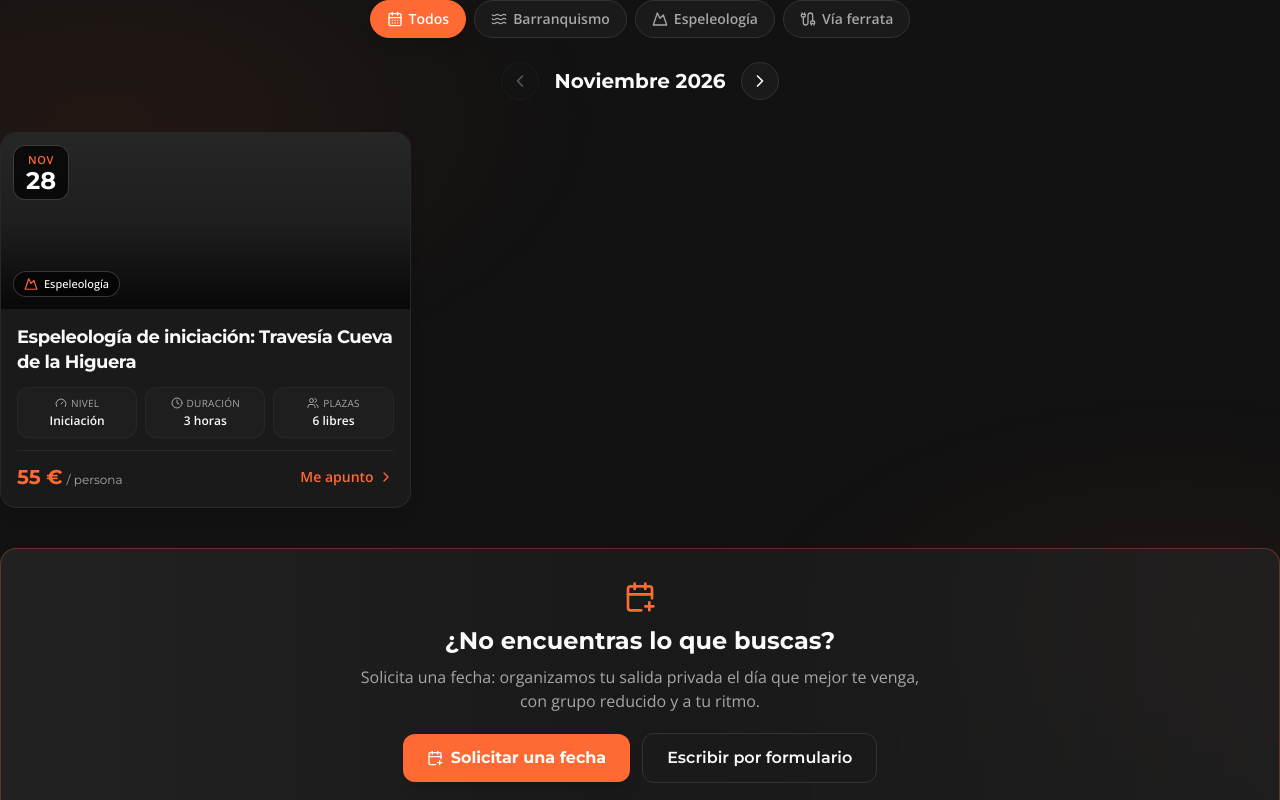
Test: permite desplegar el punto de encuentro y abrir los dos mapas
Step 1. Click the button named "Me apunto a Espeleología de iniciación: Travesía Cueva de la Higuera" → coordinates (205, 320), box [1,133,410,506]
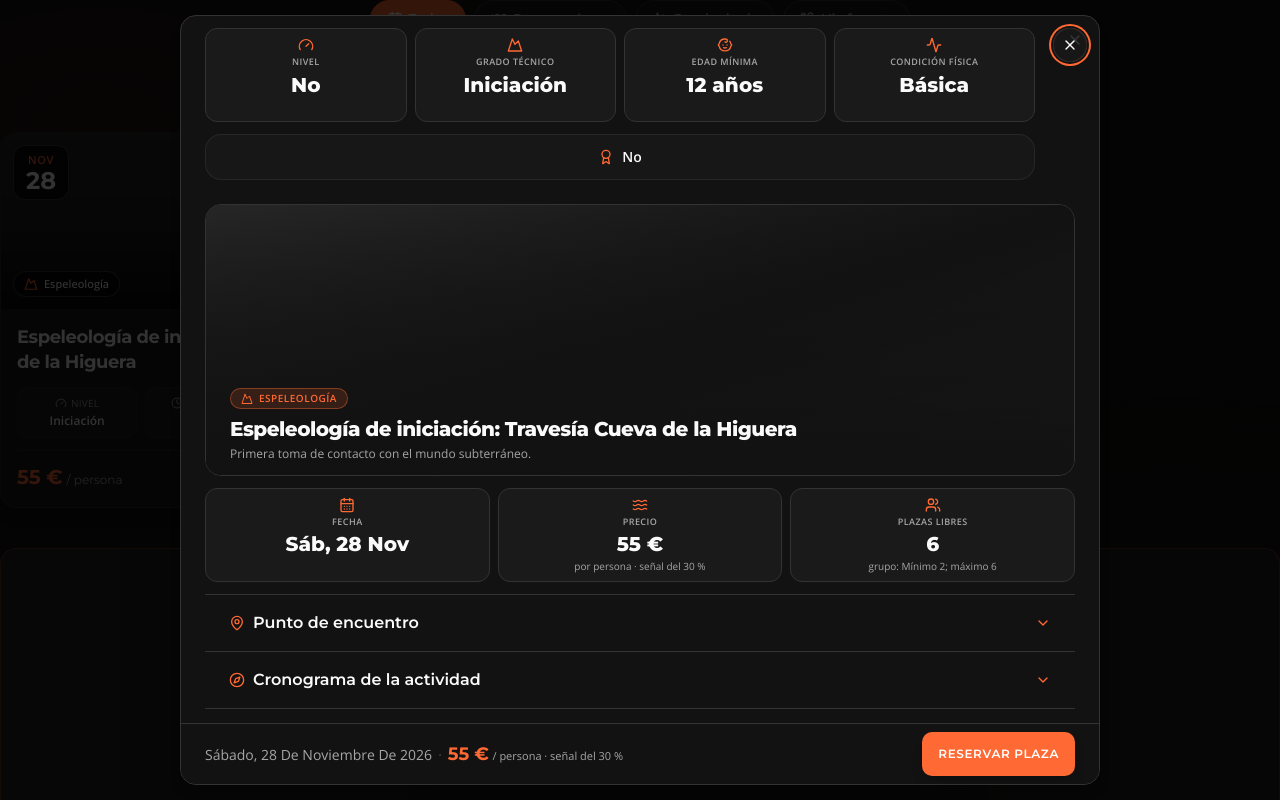
Step 2. Click the button "Punto de encuentro" → coordinates (336, 622), box [205,594,1075,650]
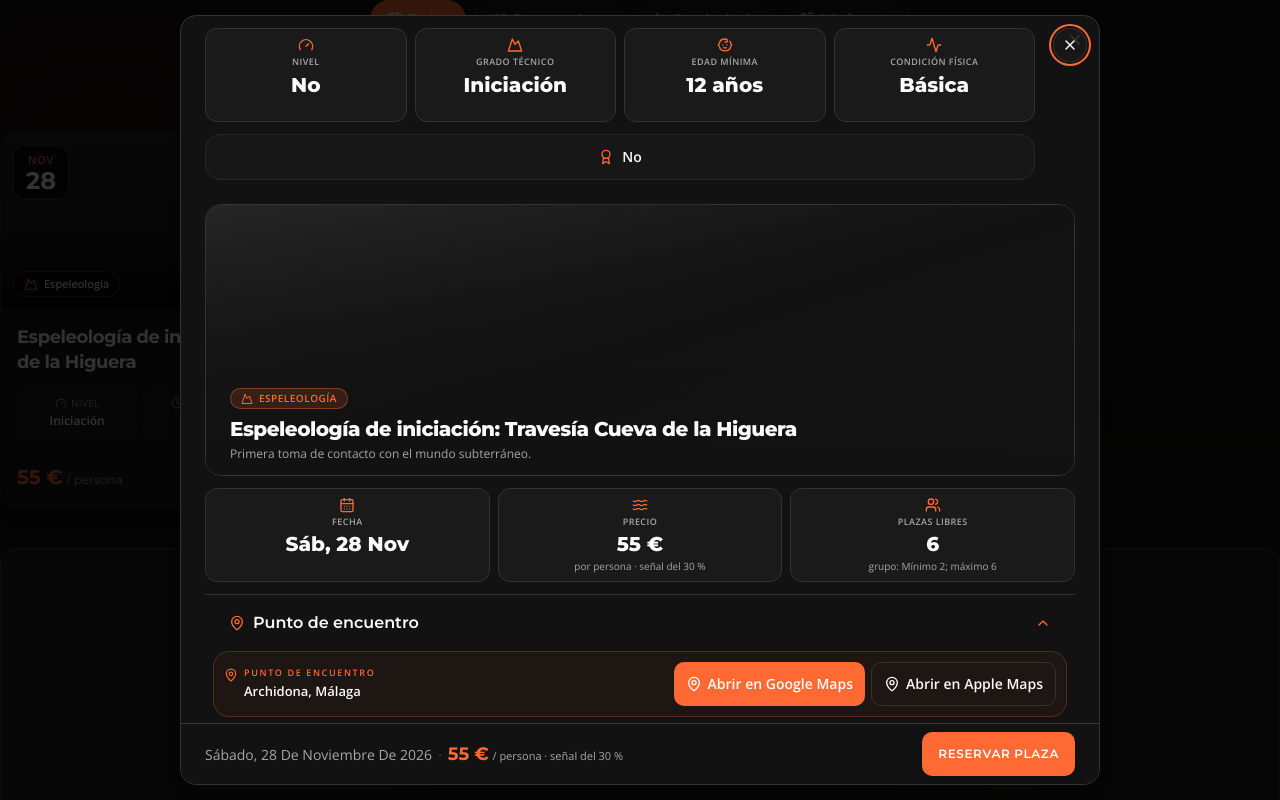
expect the text "Archidona, Málaga" is shown: met, box [244,682,361,700]
